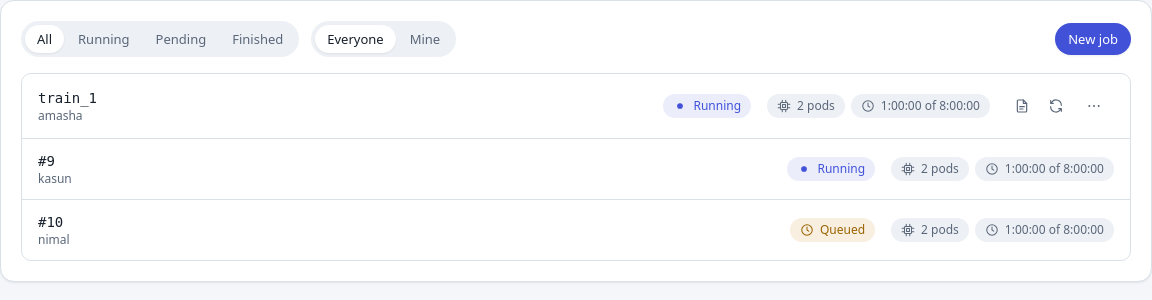
it: Jobs filter › narrows the queue to running or pending jobs
This screenshot has width=1152, height=300.
Click the radio button labelled "Pending". click: (181, 39)
box: x1=144 y1=25 x2=218 y2=53
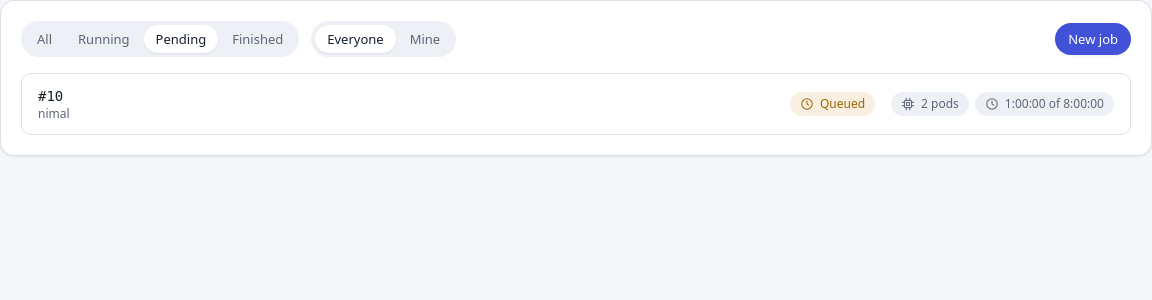
Expected: the text "nimal" is shown, x1=38 y1=105 x2=70 y2=122
Result: the number of list items is 1 at x1=38 y1=88 x2=1114 y2=122
Click the radio button labelled "Running". click: (104, 39)
box: x1=66 y1=25 x2=142 y2=53
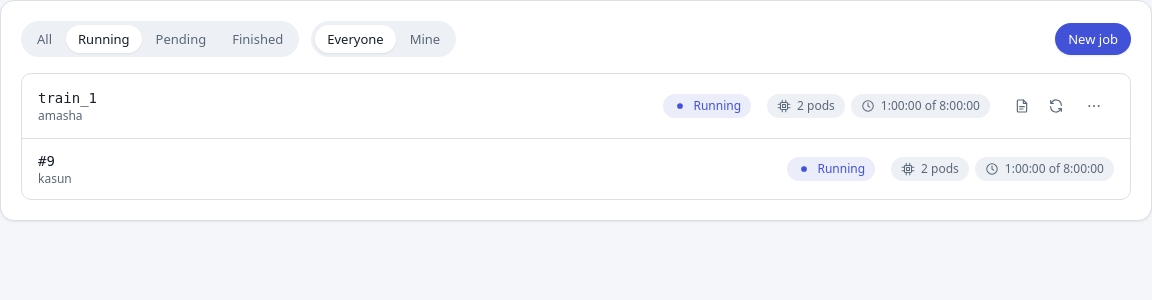
Result: the number of list items is 2 at x1=22 y1=74 x2=1130 y2=138; x1=22 y1=138 x2=1130 y2=199
